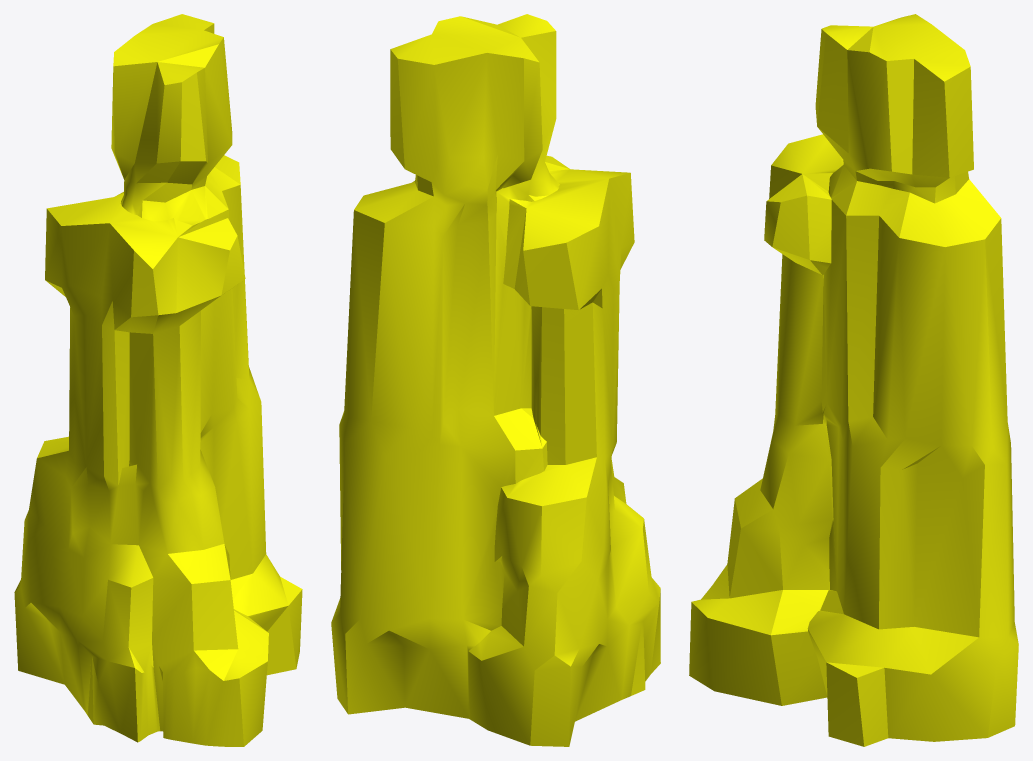
The picture shows the model from 3 angles, left to right: view 1: azimuth 30°, elevation 25°; view 2: azimuth 150°, elevation 25°; view 3: azimuth 270°, elevation 25°; orthographic projection. The views are drawn at different scales.
Parts seen in each view (by area): view 1: military_mountain2; view 2: military_mountain2; view 3: military_mountain2.
Part boxes in pixels (bbox=[...]): military_mountain2: bbox=[14, 14, 302, 746]; military_mountain2: bbox=[331, 14, 660, 746]; military_mountain2: bbox=[689, 14, 1018, 746].
Size of the model in its own units: 0.1194 by 0.2981 by 0.1361.
Materials: 1 (1 with a texture image).
